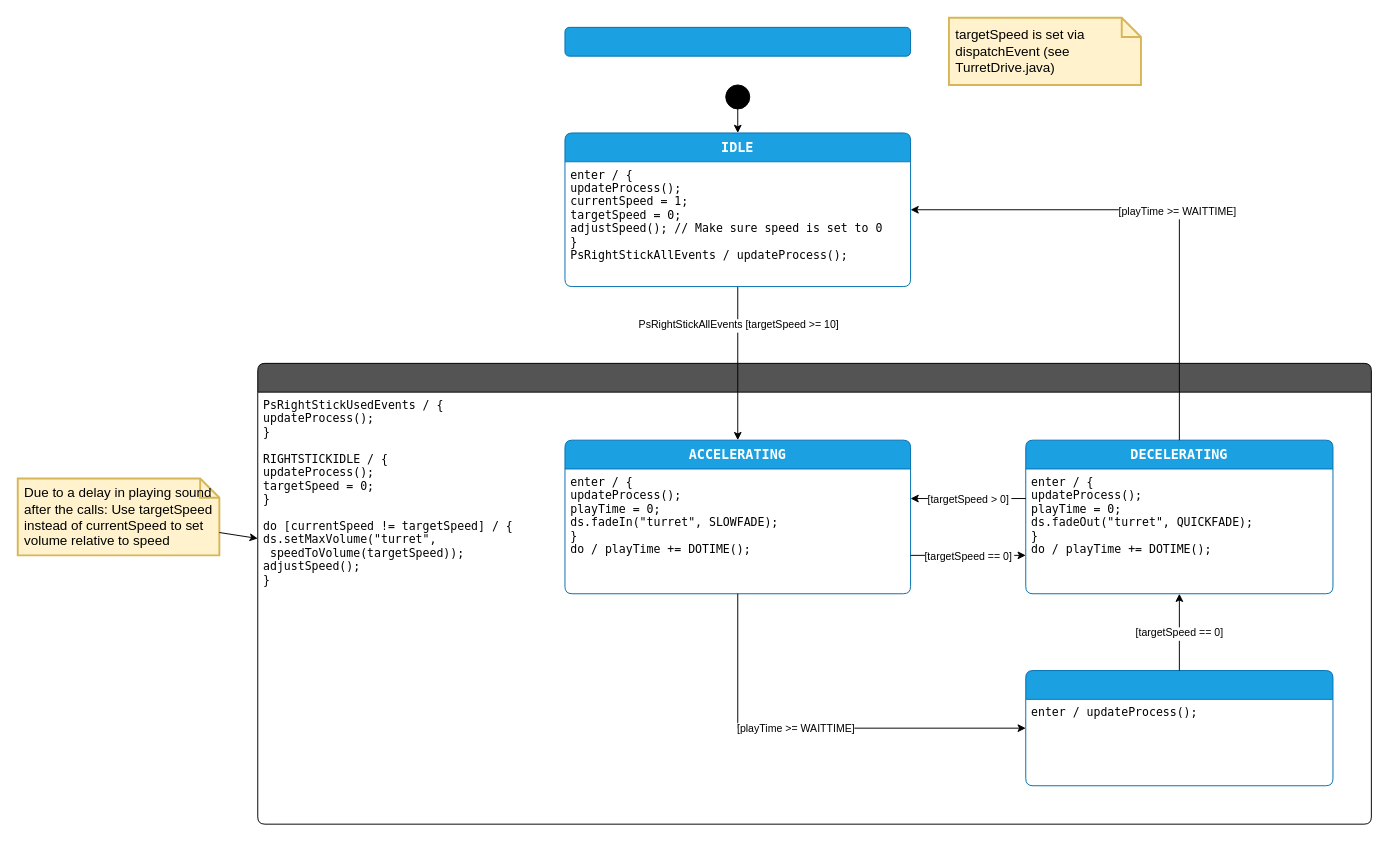
Image size: 1388x841. Some labels were removed from this diagram. Each missing label, with the box of its shape:
$STATEMACHINE : {fileName}: (564, 26, 911, 56)
MOVING: (1025, 670, 1333, 786)
RUNNING: (257, 362, 1371, 824)
